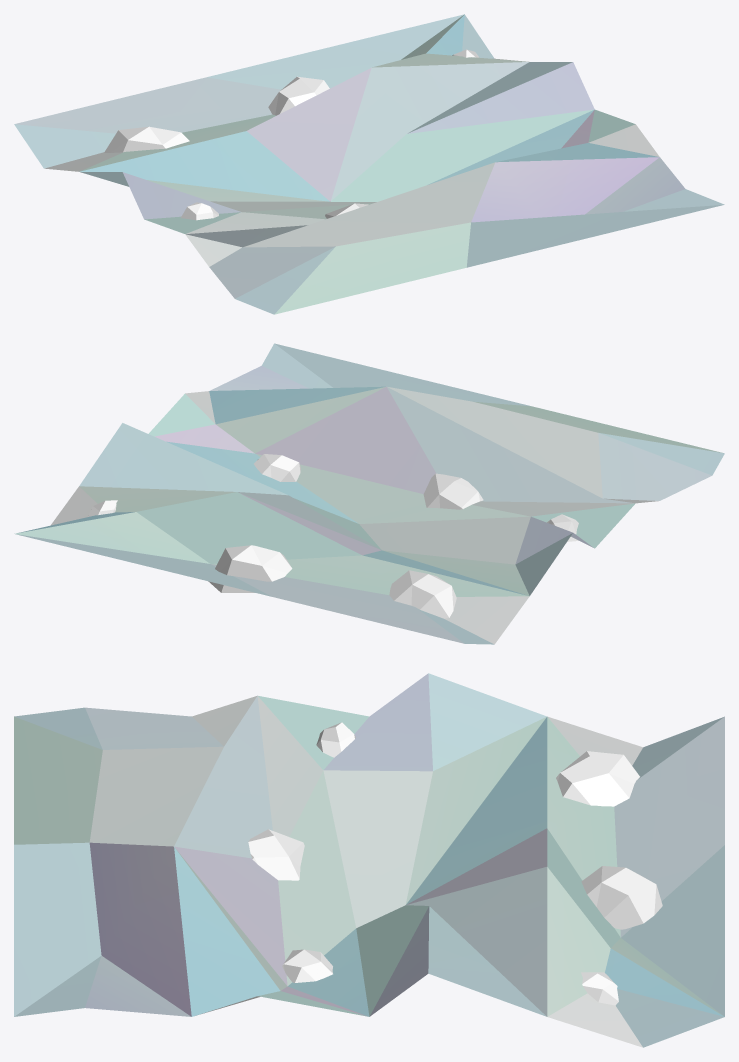
Rendered from sm_ground_ice_3.fbx.
3 renders of one model, top to bottom at view 1: azimuth 30°, elevation 25°; view 2: azimuth 150°, elevation 25°; view 3: azimuth 270°, elevation 25°, orthographic. The views are drawn at different scales.
Parts seen in each view (by area): view 1: sm_ground_ice_3; view 2: sm_ground_ice_3; view 3: sm_ground_ice_3.
Boxes of the visible parts, <box> form: sm_ground_ice_3: <box>14,14,724,314</box>; sm_ground_ice_3: <box>14,343,724,644</box>; sm_ground_ice_3: <box>14,673,724,1047</box>.
Bounding box in the file's own units: 34.79 × 206 × 200.
